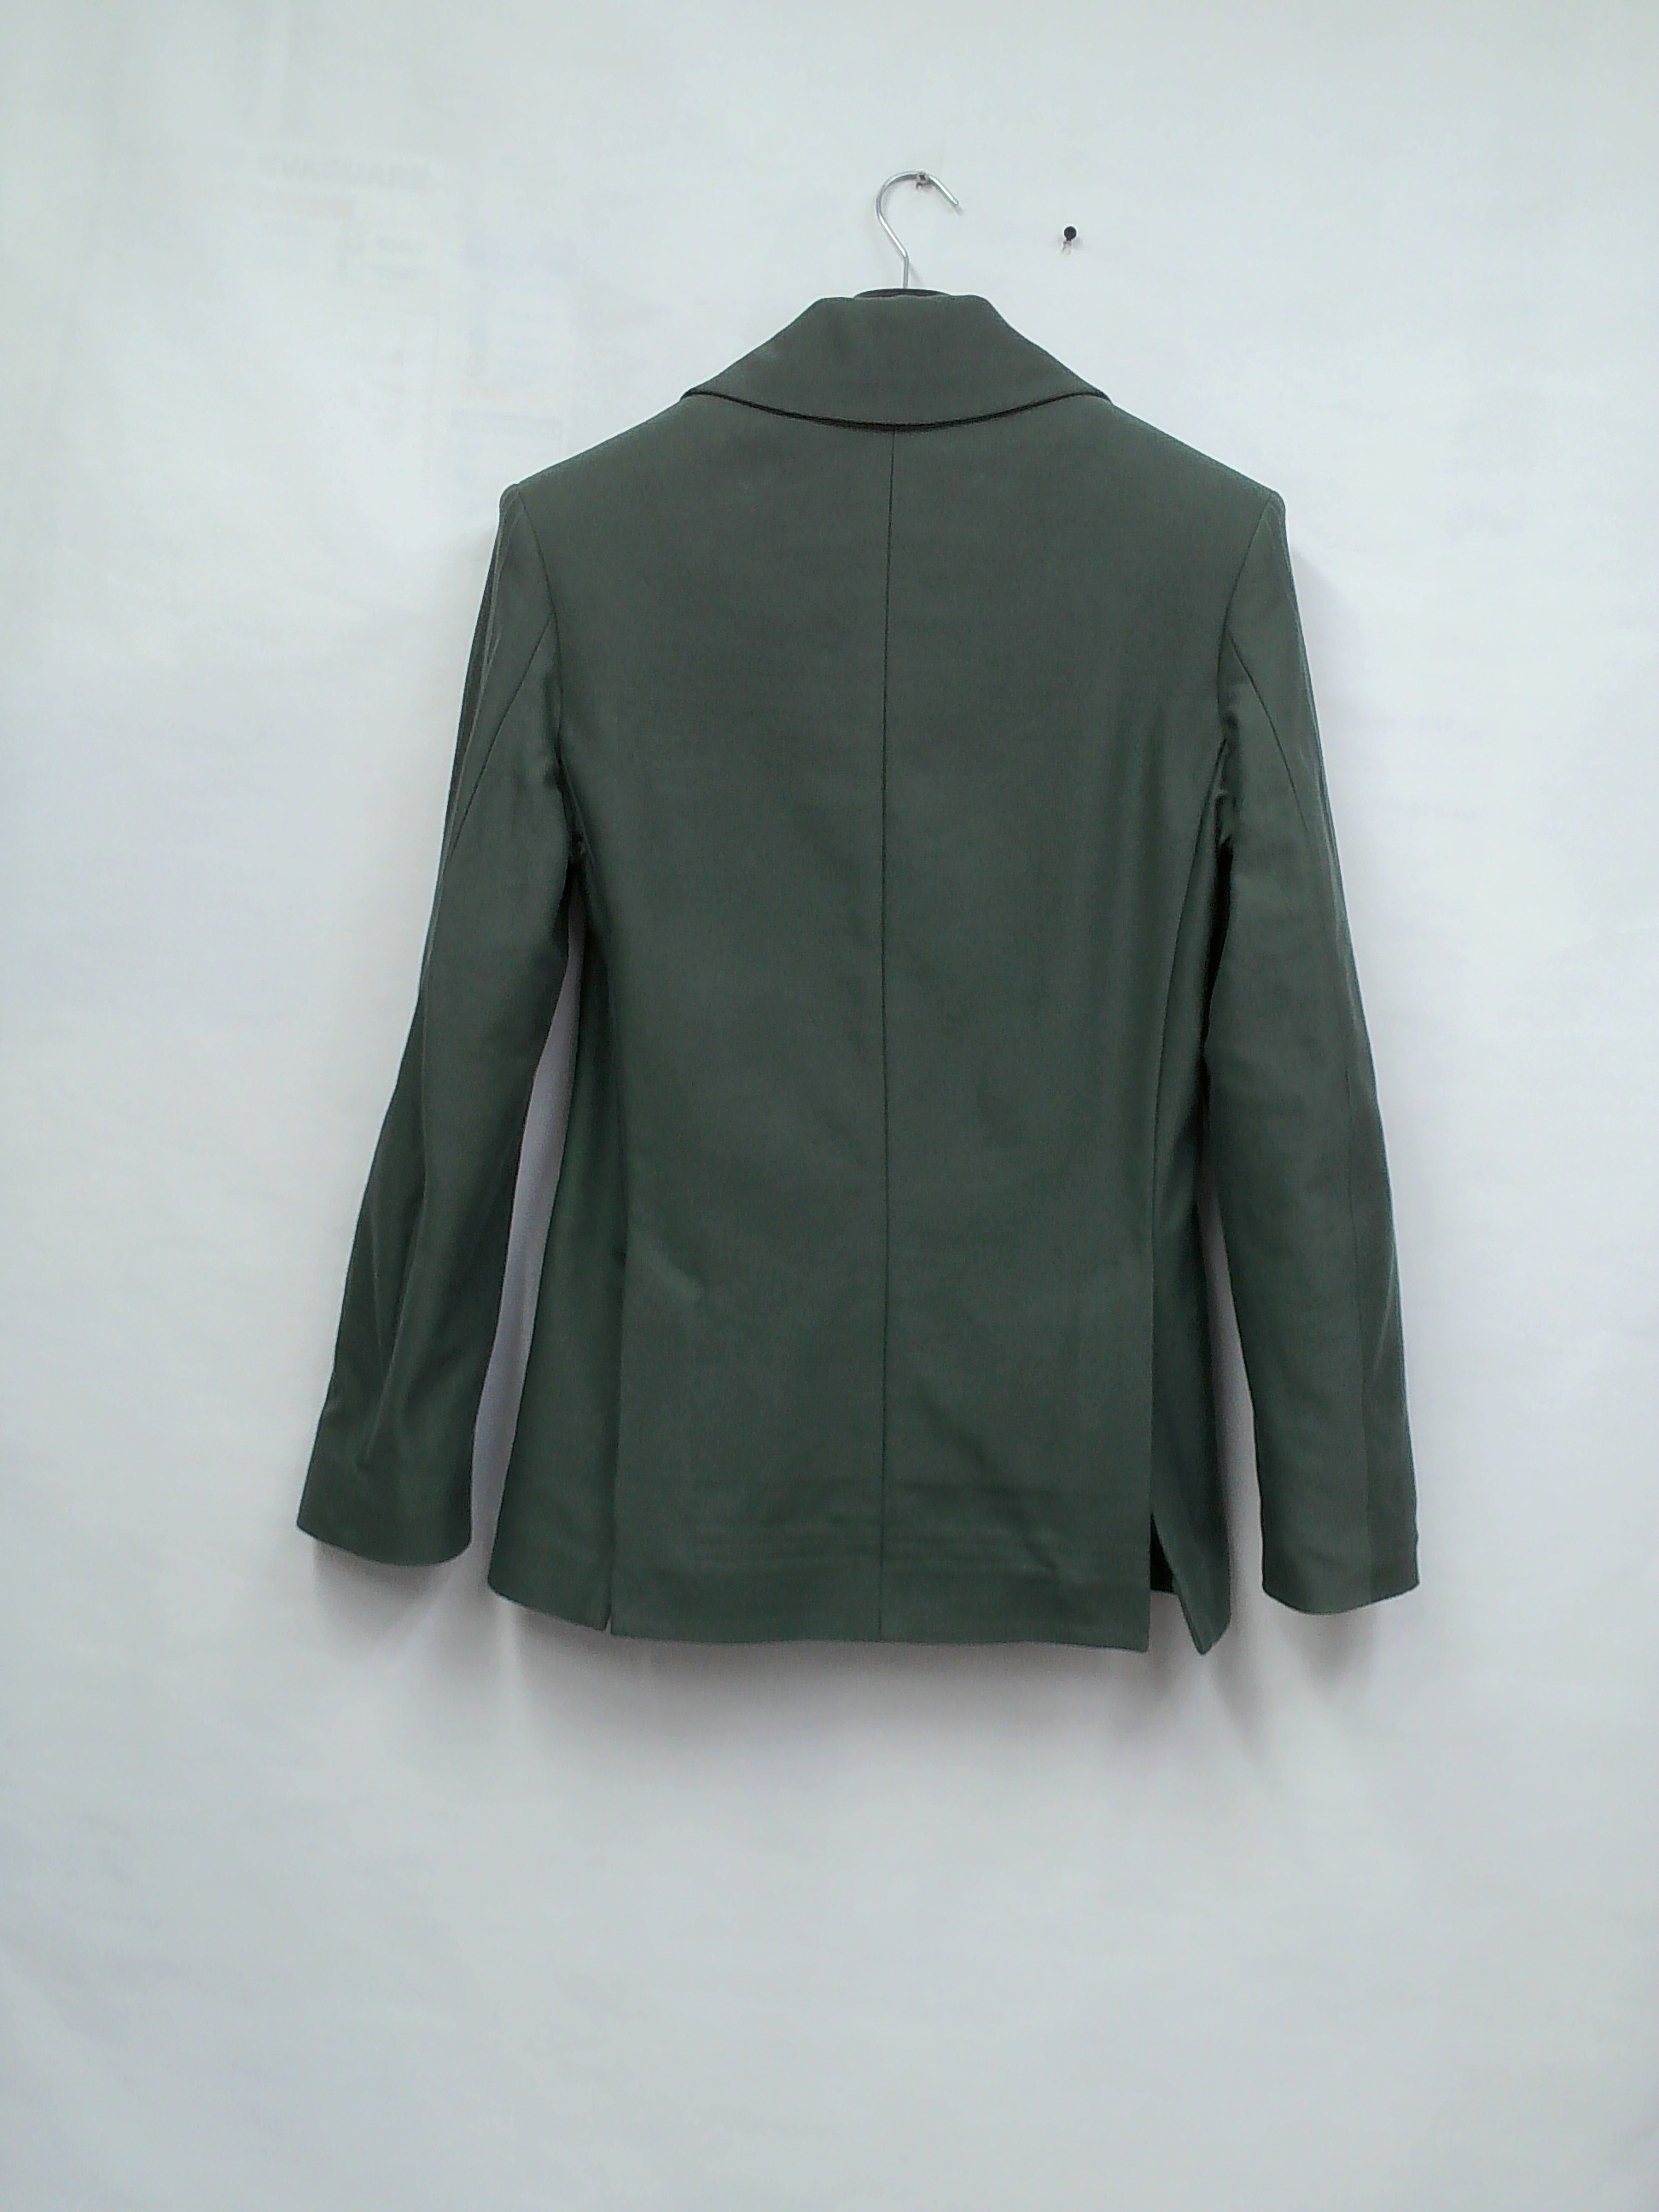seam: (505, 672, 601, 794)
